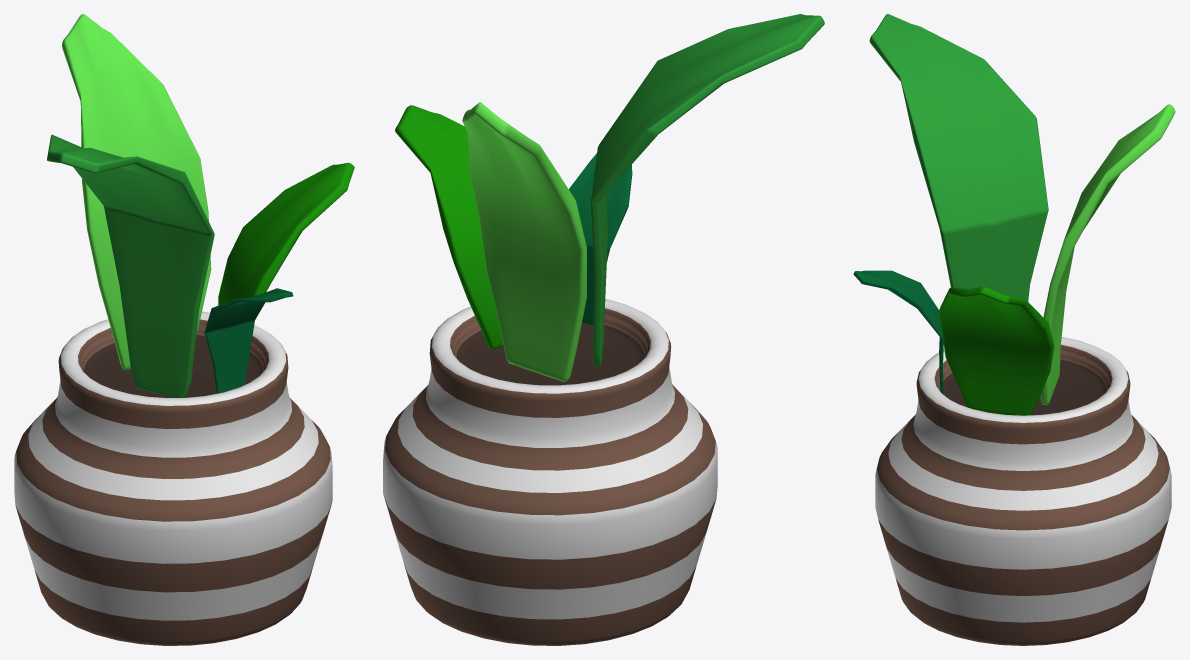
File: big-pot-transformed.glb
3 renders of one model, left to right at view 1: azimuth 30°, elevation 25°; view 2: azimuth 150°, elevation 25°; view 3: azimuth 270°, elevation 25°, orthographic. The views are drawn at different scales.
Visible parts, largest first — view 1: pot; view 2: pot; view 3: pot.
Part boxes in pixels (left/top/right/bottom): pot: left=14, top=14, right=354, bottom=645; pot: left=383, top=14, right=824, bottom=645; pot: left=853, top=14, right=1175, bottom=645.
Bounding box in the file's own units: 6.13 × 9.13 × 5.33.
